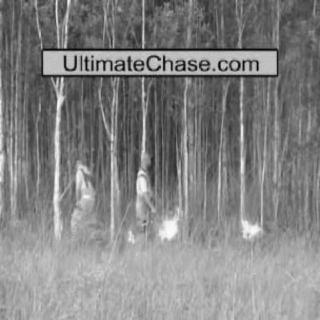Fire: (240, 212, 268, 248), (126, 227, 136, 245)
other: (77, 189, 95, 207)
